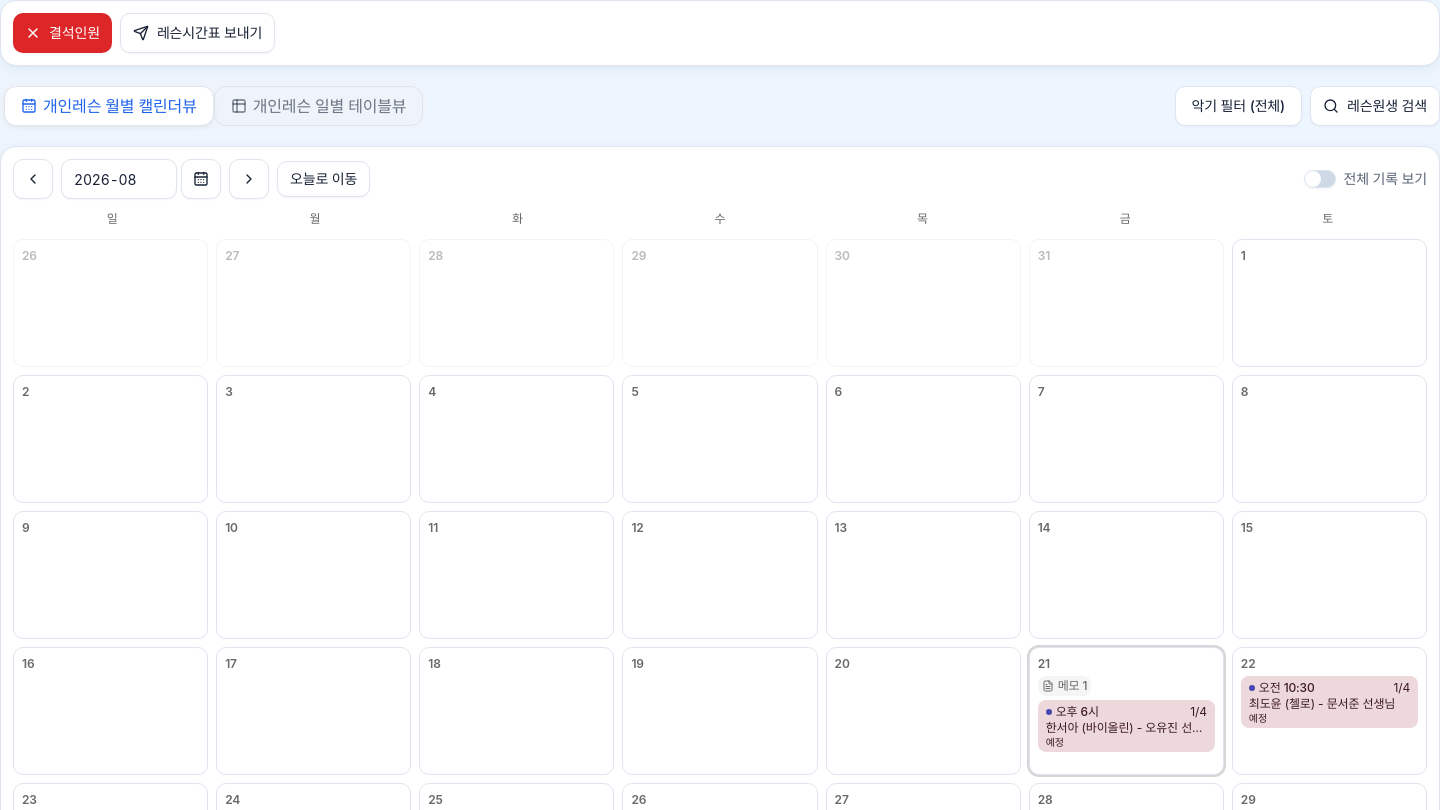
Test: 날짜에서 개인레슨 등록 (명세 3.2) › 선생님 역할(canManage=false)은 등록 버튼을 보지 못하지만 출석 확인은 계속 할 수 있다
The image size is (1440, 810).
Click the cell "21 메모 1 오후 6시 1/4 한서아 (바이올린) - 오유진 선생님 예정" at coordinates (1126, 711), box [1029, 647, 1224, 775]
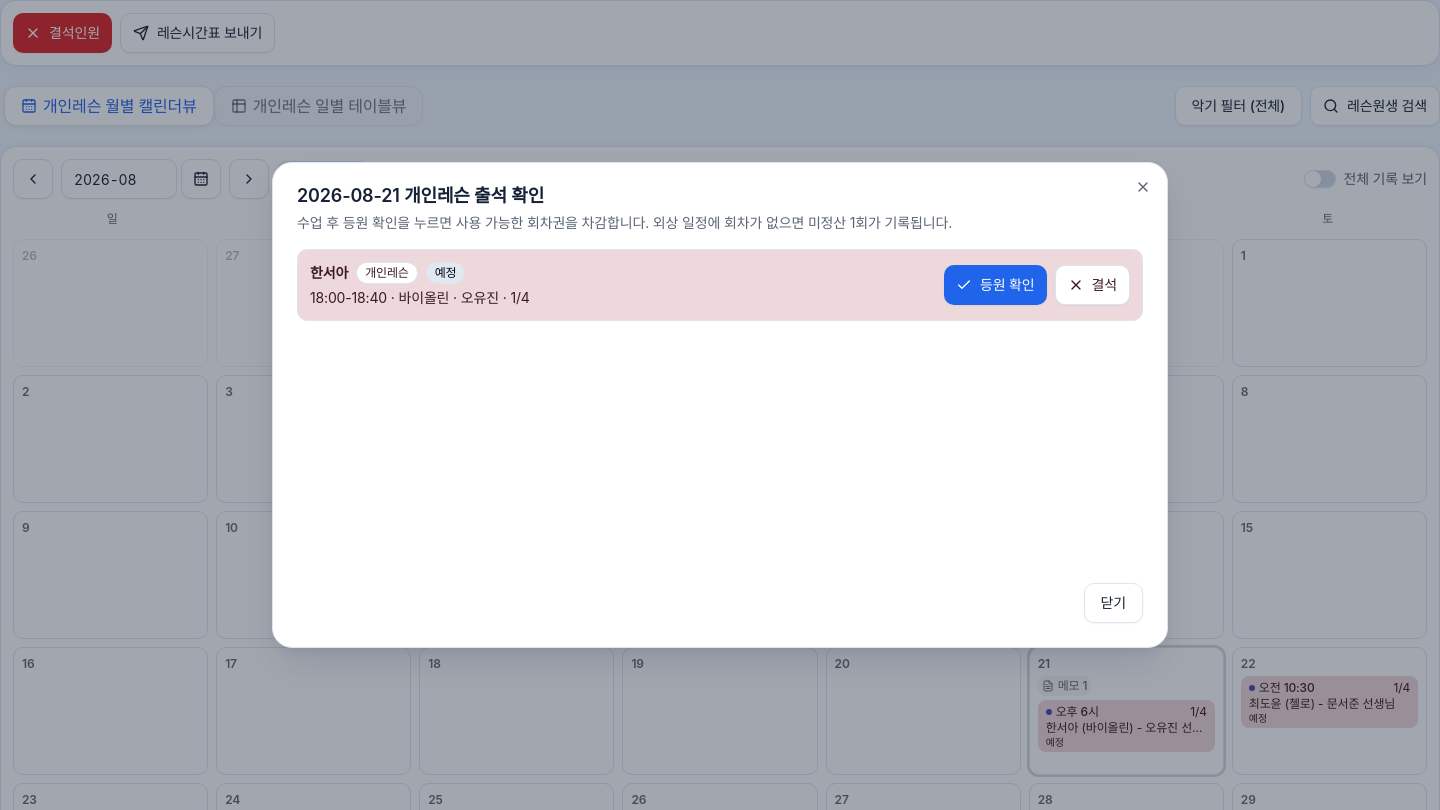
Check: the button with aria-label "한서아 개인레슨 등원 확인" is enabled, box [944, 265, 1047, 305]
